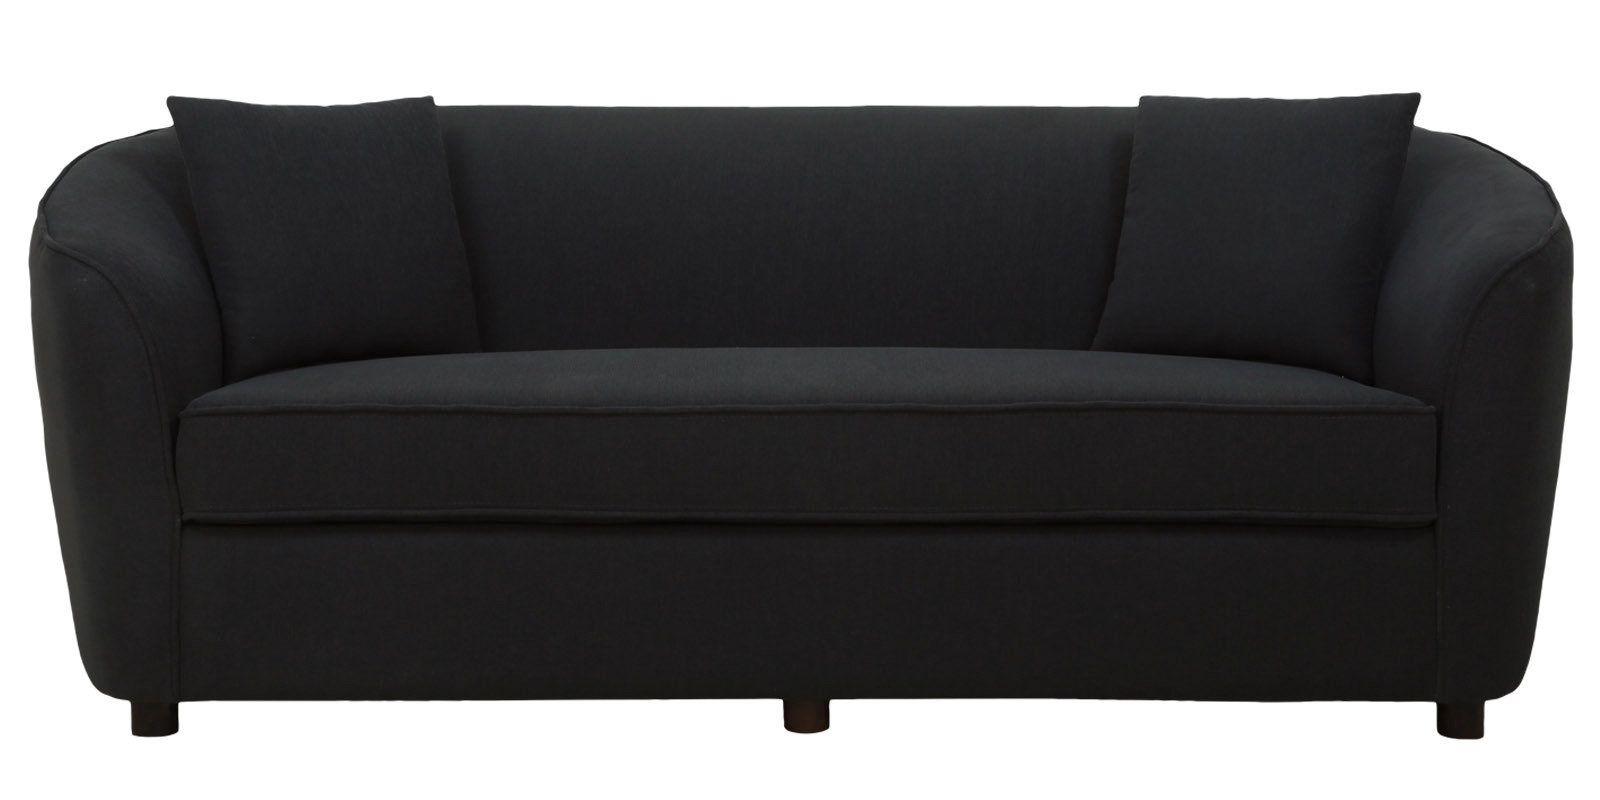Mamore Three Seater Sofa in Charcoal Grey Color by CasaCraft: (30, 90, 1574, 734)
